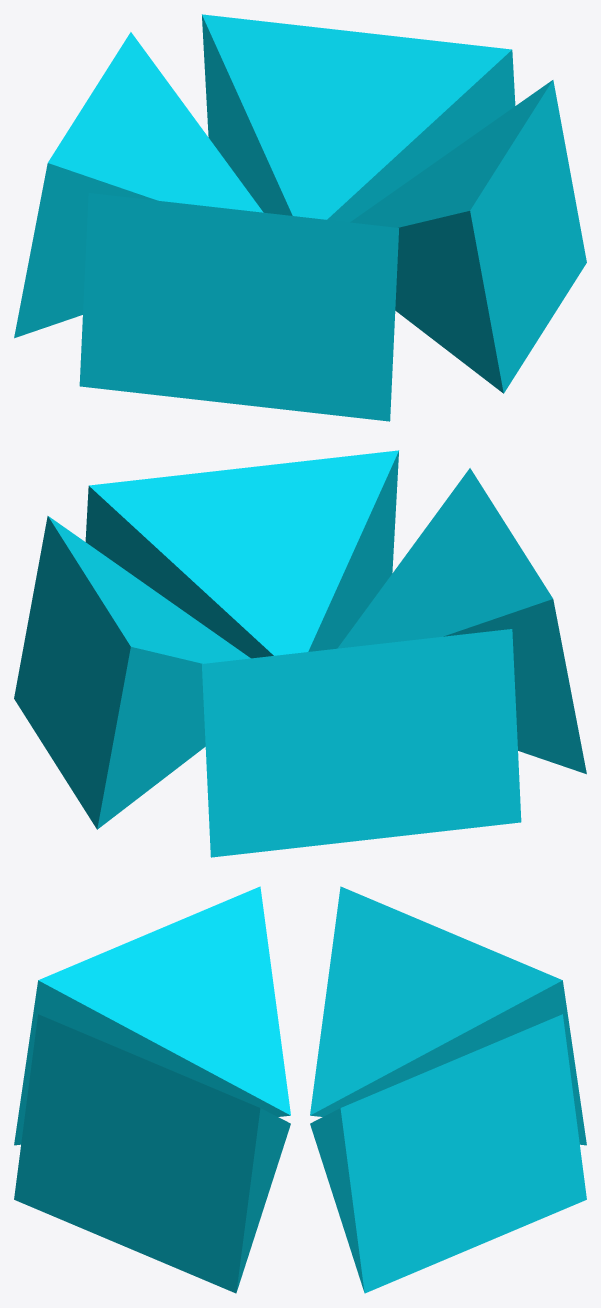
3 renders of one model, top to bottom at view 1: azimuth 30°, elevation 25°; view 2: azimuth 150°, elevation 25°; view 3: azimuth 270°, elevation 25°, orthographic. The views are drawn at different scales.
Visible parts, largest first — view 1: field of view front-right, field of view back-left, field of view front-left, field of view back-right; view 2: field of view back-right, field of view front-left, field of view back-left, field of view front-right; view 3: field of view front-left, field of view back-left, field of view front-right, field of view back-right.
Boxes of the visible parts, x1,y1,x2,y2 form: field of view front-right: [79, 193, 398, 421]; field of view back-left: [202, 14, 515, 222]; field of view front-left: [350, 80, 586, 393]; field of view back-right: [14, 32, 263, 338]; field of view back-right: [202, 629, 521, 857]; field of view front-left: [85, 450, 398, 658]; field of view back-left: [14, 516, 250, 829]; field of view front-right: [337, 468, 586, 774]; field of view front-left: [14, 1014, 290, 1293]; field of view back-left: [310, 1014, 586, 1293]; field of view front-right: [14, 886, 290, 1145]; field of view back-right: [310, 886, 586, 1145].
Size of the model in its own units: 18.15 by 6.13 by 18.15.
